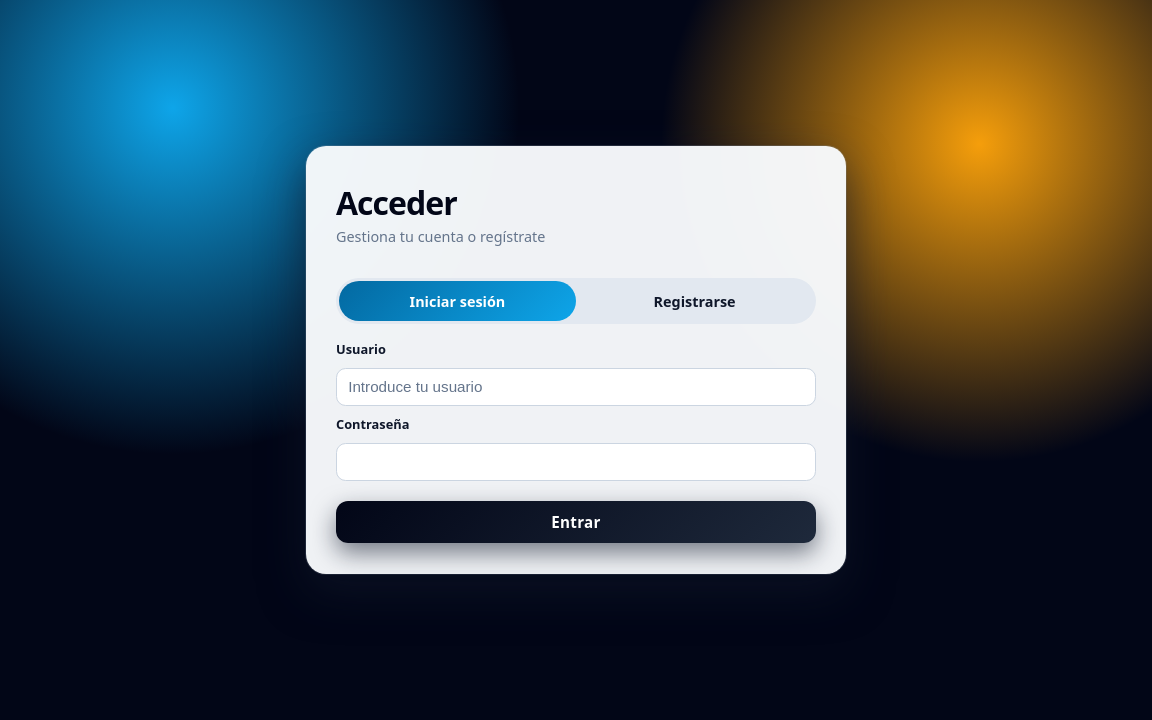
it: AuthPage › muestra validación de login cuando falta el usuario
Click the button "Entrar" at (576, 522), box [336, 501, 816, 543]
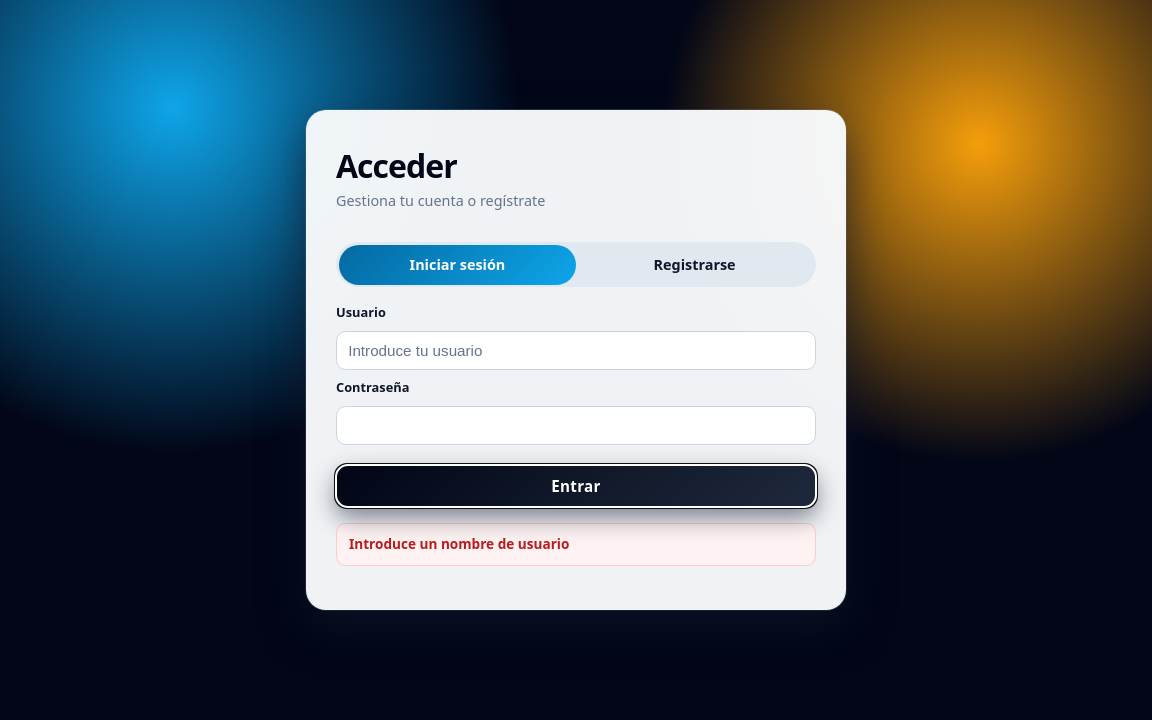
Check: the text "Introduce un nombre de usuario" is shown, box [336, 523, 816, 566]
